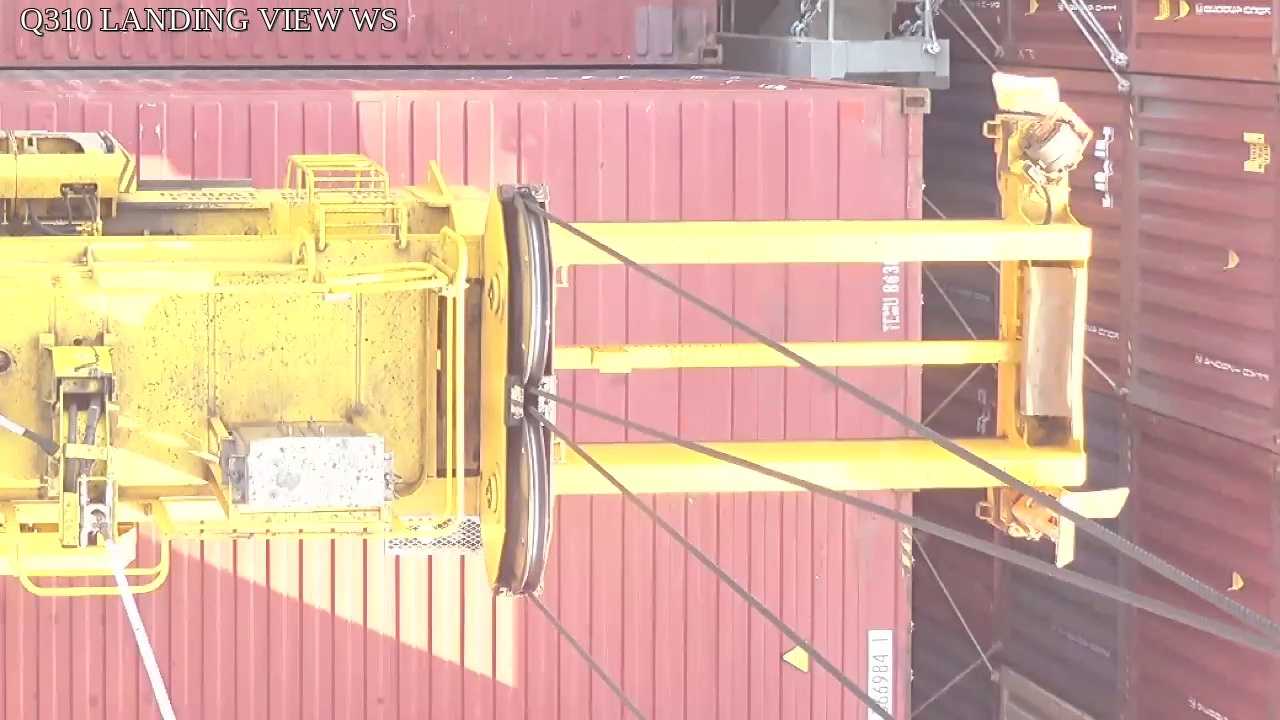right: (476, 181, 557, 604)
